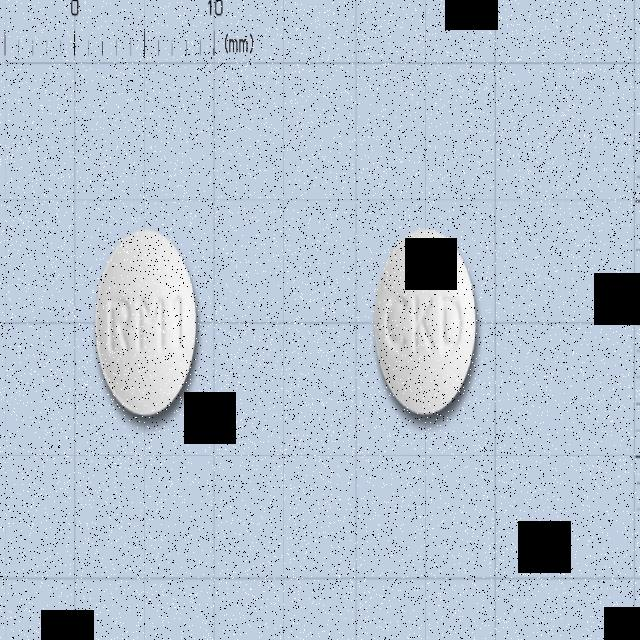Rheumide Tab: (373, 227, 477, 416), (95, 230, 198, 416)
